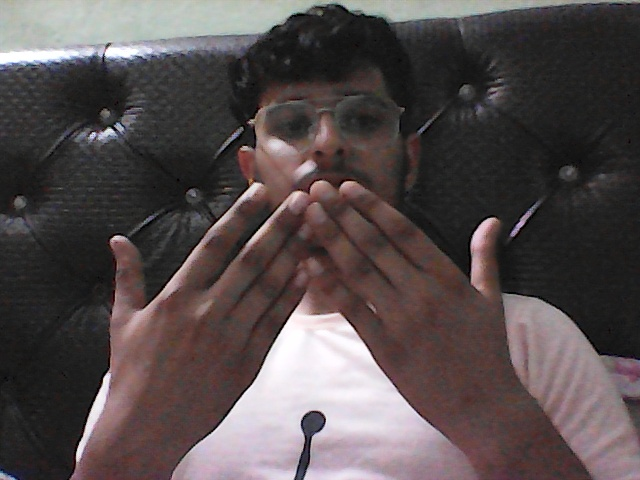thankyou: (66, 162, 537, 445)
